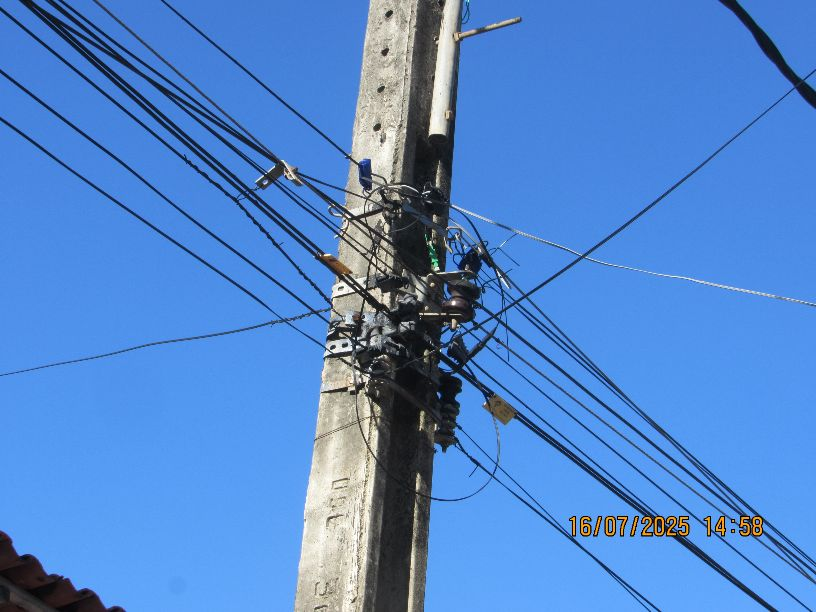drop: (337, 139, 465, 219), (447, 236, 523, 317)
fibra_optica: (406, 351, 525, 442), (298, 246, 382, 341)
